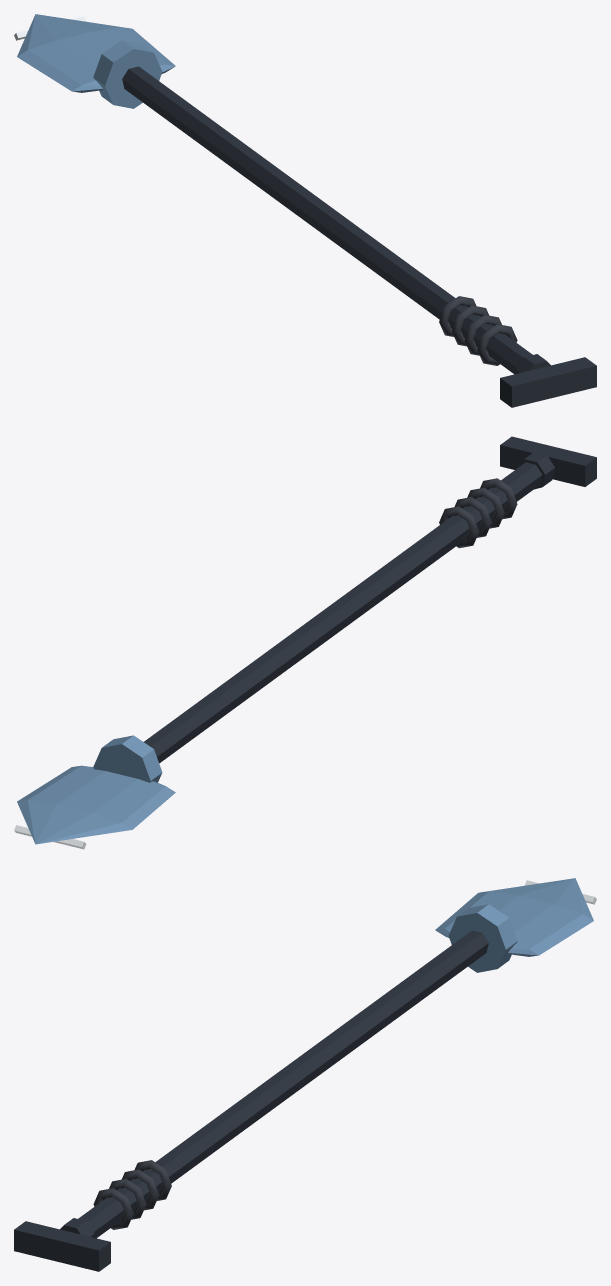
The model's file is Tool_Shovel_Titanium.fbx.
3 views of the same model, one above another, from view 1: azimuth 30°, elevation 25°; view 2: azimuth 150°, elevation 25°; view 3: azimuth 330°, elevation 25° (orthographic).
Visible parts, largest first — view 1: Tool_Shovel_Titanium; view 2: Tool_Shovel_Titanium; view 3: Tool_Shovel_Titanium.
Part boxes in pixels (x1,y1,x2,y2): Tool_Shovel_Titanium: (14, 14, 596, 407); Tool_Shovel_Titanium: (14, 436, 596, 849); Tool_Shovel_Titanium: (14, 878, 596, 1271).
Bounding box in the file's own units: 6.8 × 3.38 × 52.8.
